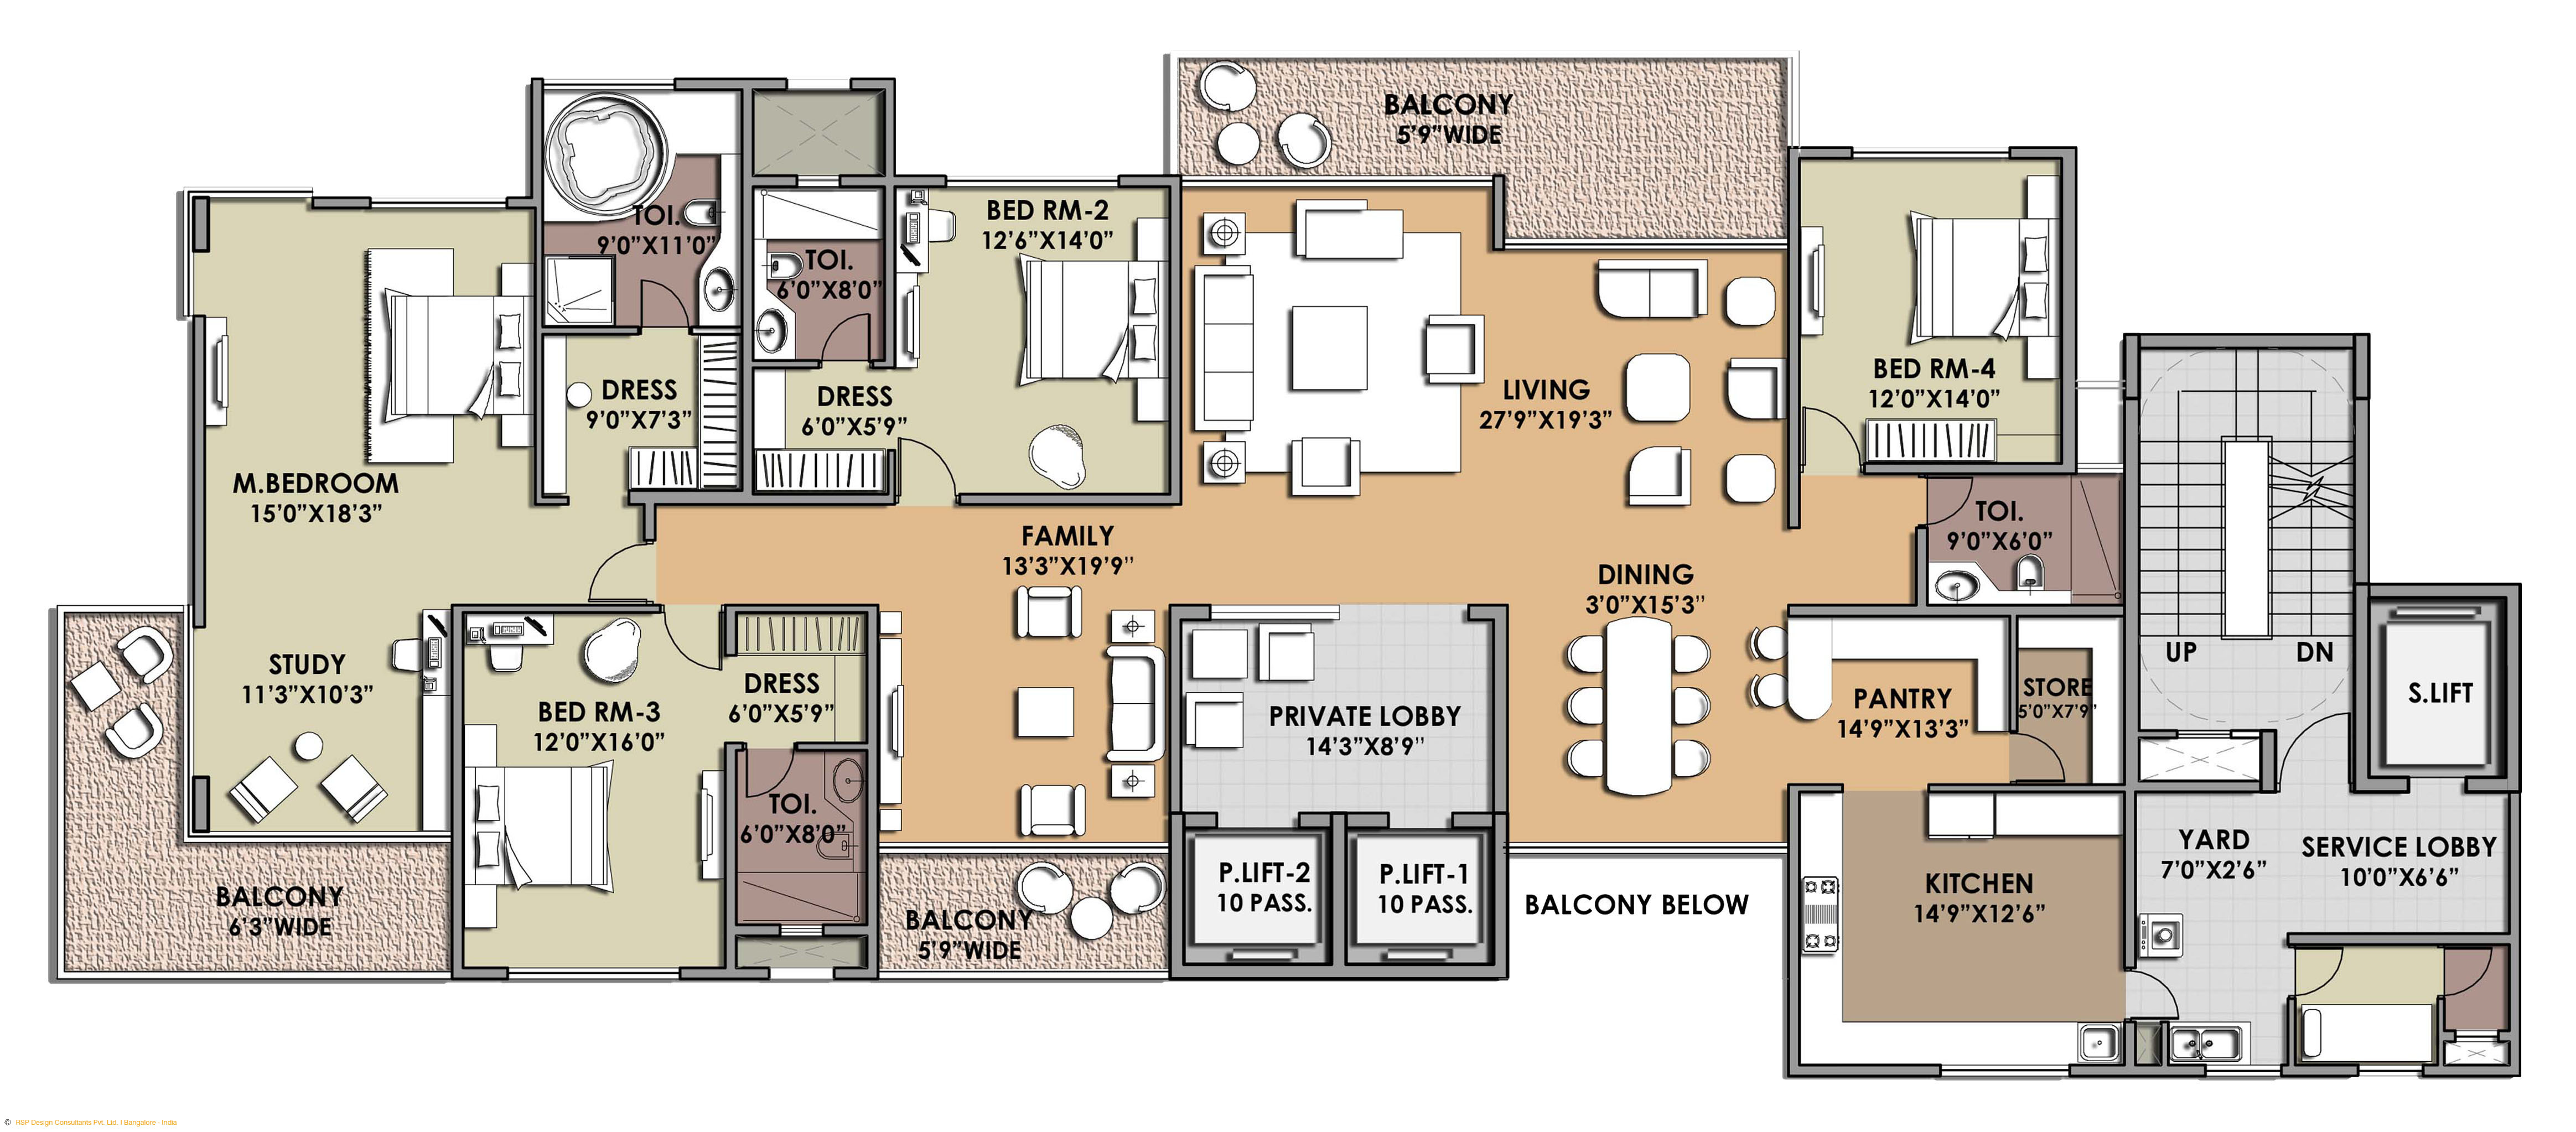door: (2275, 708, 2351, 779), (895, 434, 956, 495), (664, 614, 723, 675), (1802, 407, 1861, 468), (585, 544, 644, 603), (634, 271, 692, 327), (2012, 733, 2070, 785), (1920, 473, 1973, 529), (2288, 945, 2346, 996), (2435, 946, 2492, 997), (2124, 968, 2180, 1019), (820, 311, 871, 365), (743, 749, 798, 795)
